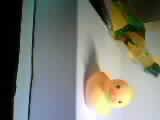duck: (76, 61, 135, 109)
